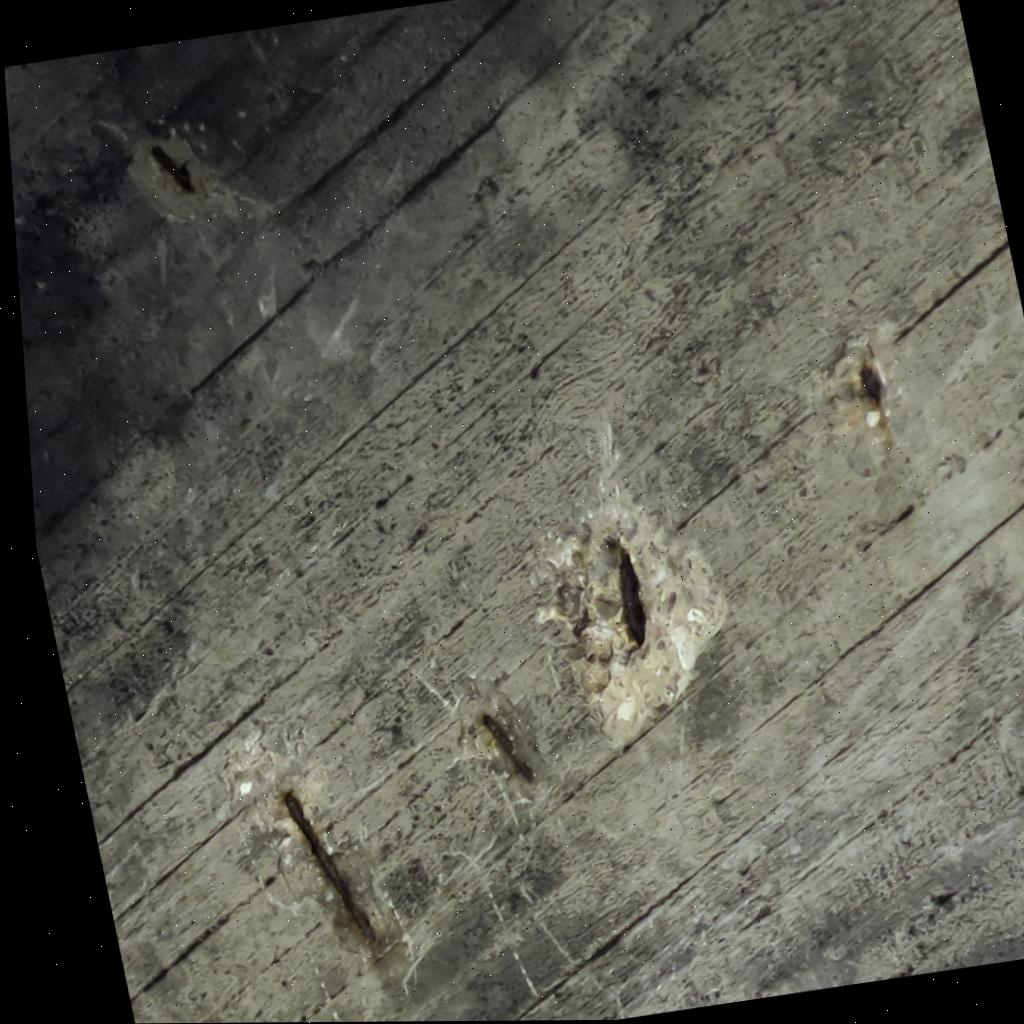exposed_rebar: (284, 791, 376, 941), (483, 715, 534, 782), (619, 548, 647, 645), (151, 145, 195, 193), (859, 360, 883, 404)
spalling: (538, 423, 726, 745), (247, 725, 390, 962), (100, 123, 238, 223), (825, 342, 894, 475), (455, 682, 542, 784)
